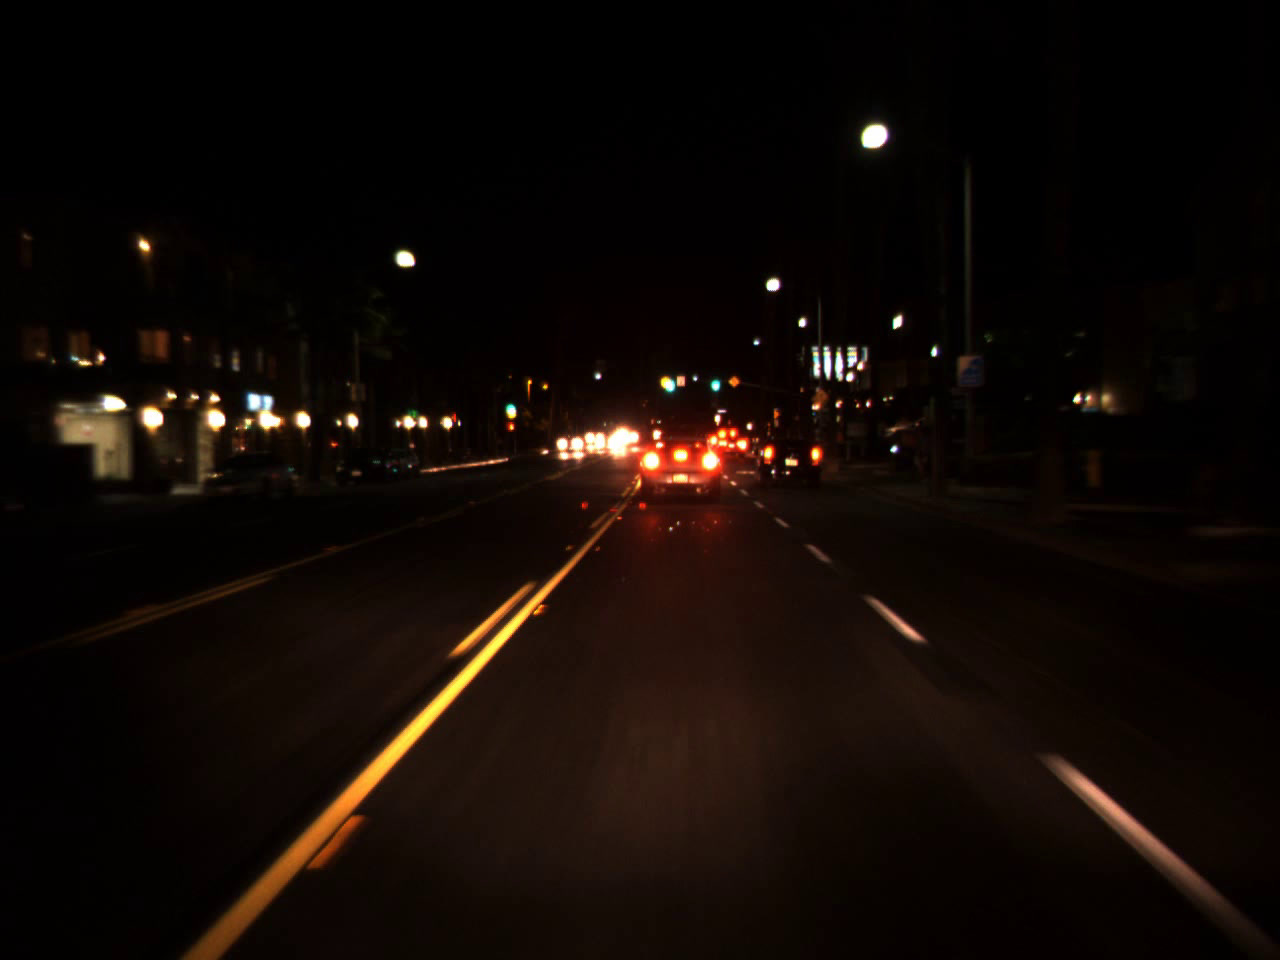go: (659, 367, 675, 394), (708, 366, 722, 396), (503, 397, 517, 412)
